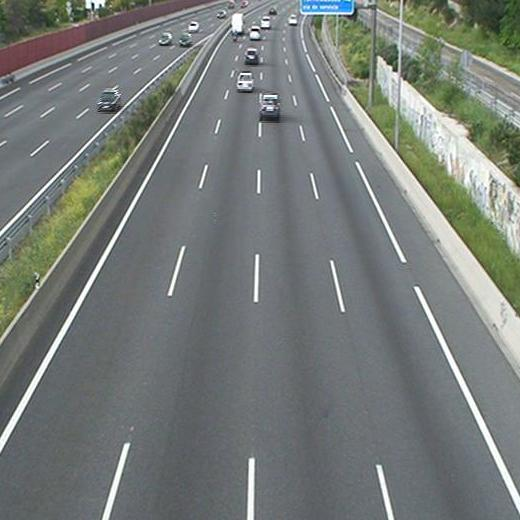car: (259, 94, 279, 116), (237, 73, 253, 90), (245, 48, 258, 63), (249, 27, 262, 39), (261, 16, 271, 28), (288, 14, 298, 24), (269, 6, 279, 14)
motorcycle: (231, 27, 238, 42)
van: (231, 11, 243, 32)
